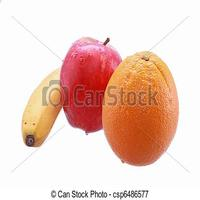apple: (68, 32, 121, 149)
banane: (18, 61, 65, 155)
orange: (105, 47, 180, 173)
